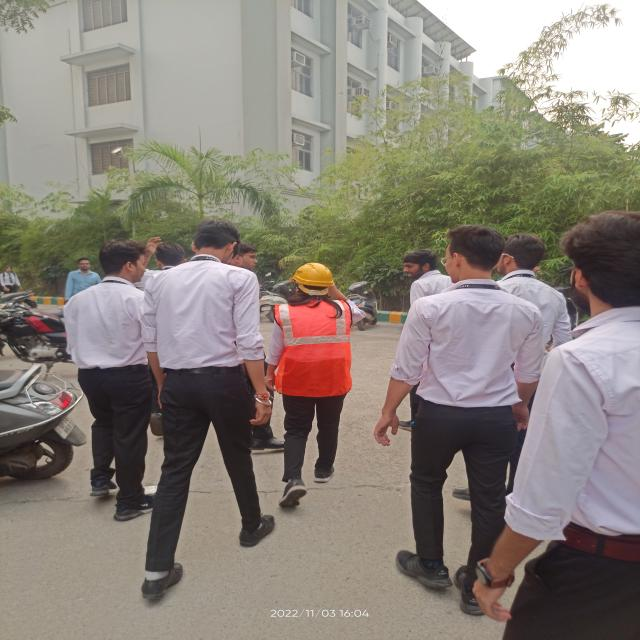safe: (261, 259, 368, 517)
unsafe: (463, 207, 640, 640), (407, 222, 538, 595), (154, 222, 270, 606), (78, 242, 158, 523), (396, 244, 457, 312), (64, 258, 100, 302), (1, 263, 23, 299), (391, 365, 398, 367)
